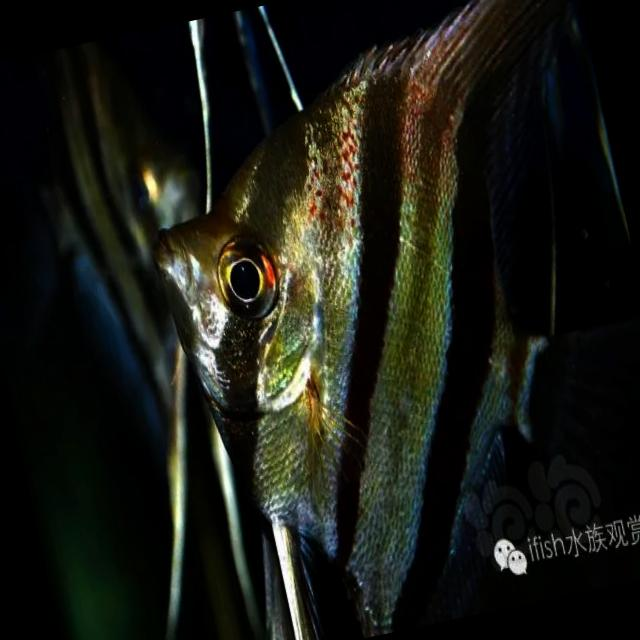AngelFish: (113, 0, 640, 628), (3, 31, 248, 466)
